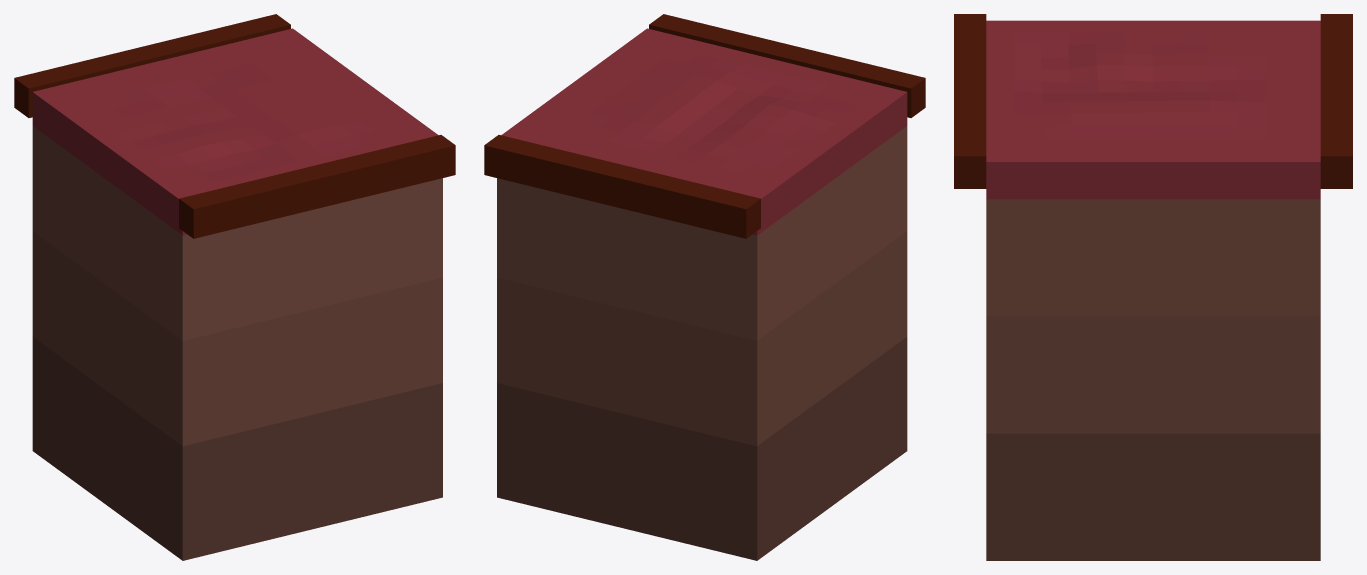
File: Plano18.fbx
3 renders of one model, left to right at view 1: azimuth 30°, elevation 25°; view 2: azimuth 150°, elevation 25°; view 3: azimuth 270°, elevation 25°, orthographic. The views are drawn at different scales.
Parts seen in each view (by area): view 1: Plane.089, Plane.088, Cube.1728; view 2: Plane.089, Plane.088, Cube.1728; view 3: Plane.089, Plane.088, Cube.1728.
Part boxes in pixels (x1,y1,x2,y2): Plane.089: (32, 126, 442, 560); Plane.088: (32, 28, 438, 235); Cube.1728: (14, 14, 455, 238); Plane.089: (497, 126, 907, 560); Plane.088: (501, 28, 907, 235); Cube.1728: (484, 14, 925, 238); Plane.089: (986, 199, 1320, 560); Plane.088: (986, 20, 1320, 199); Cube.1728: (954, 14, 1352, 188).
Size of the model in its own units: 812 by 1067 by 955.
